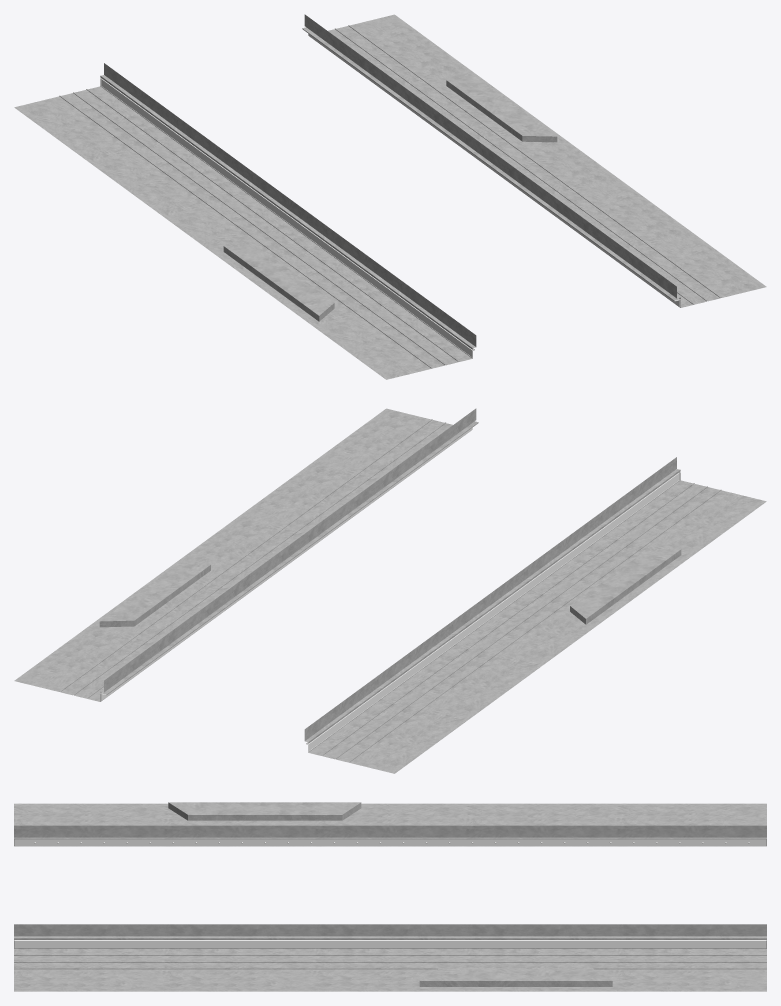
Rendered from Hall_Ceiling.FBX.
The picture shows the model from 3 angles, top to bottom: view 1: azimuth 30°, elevation 25°; view 2: azimuth 150°, elevation 25°; view 3: azimuth 270°, elevation 25°; orthographic projection.
Visible parts, largest first — view 1: Hall_Ceiling; view 2: Hall_Ceiling; view 3: Hall_Ceiling.
Part boxes in pixels (<box>): Hall_Ceiling: <box>14,14,766,379</box>; Hall_Ceiling: <box>14,408,766,773</box>; Hall_Ceiling: <box>14,802,766,991</box>.
Size of the model in its own units: 15941 by 898 by 27000.
3 materials, 1 textured.
